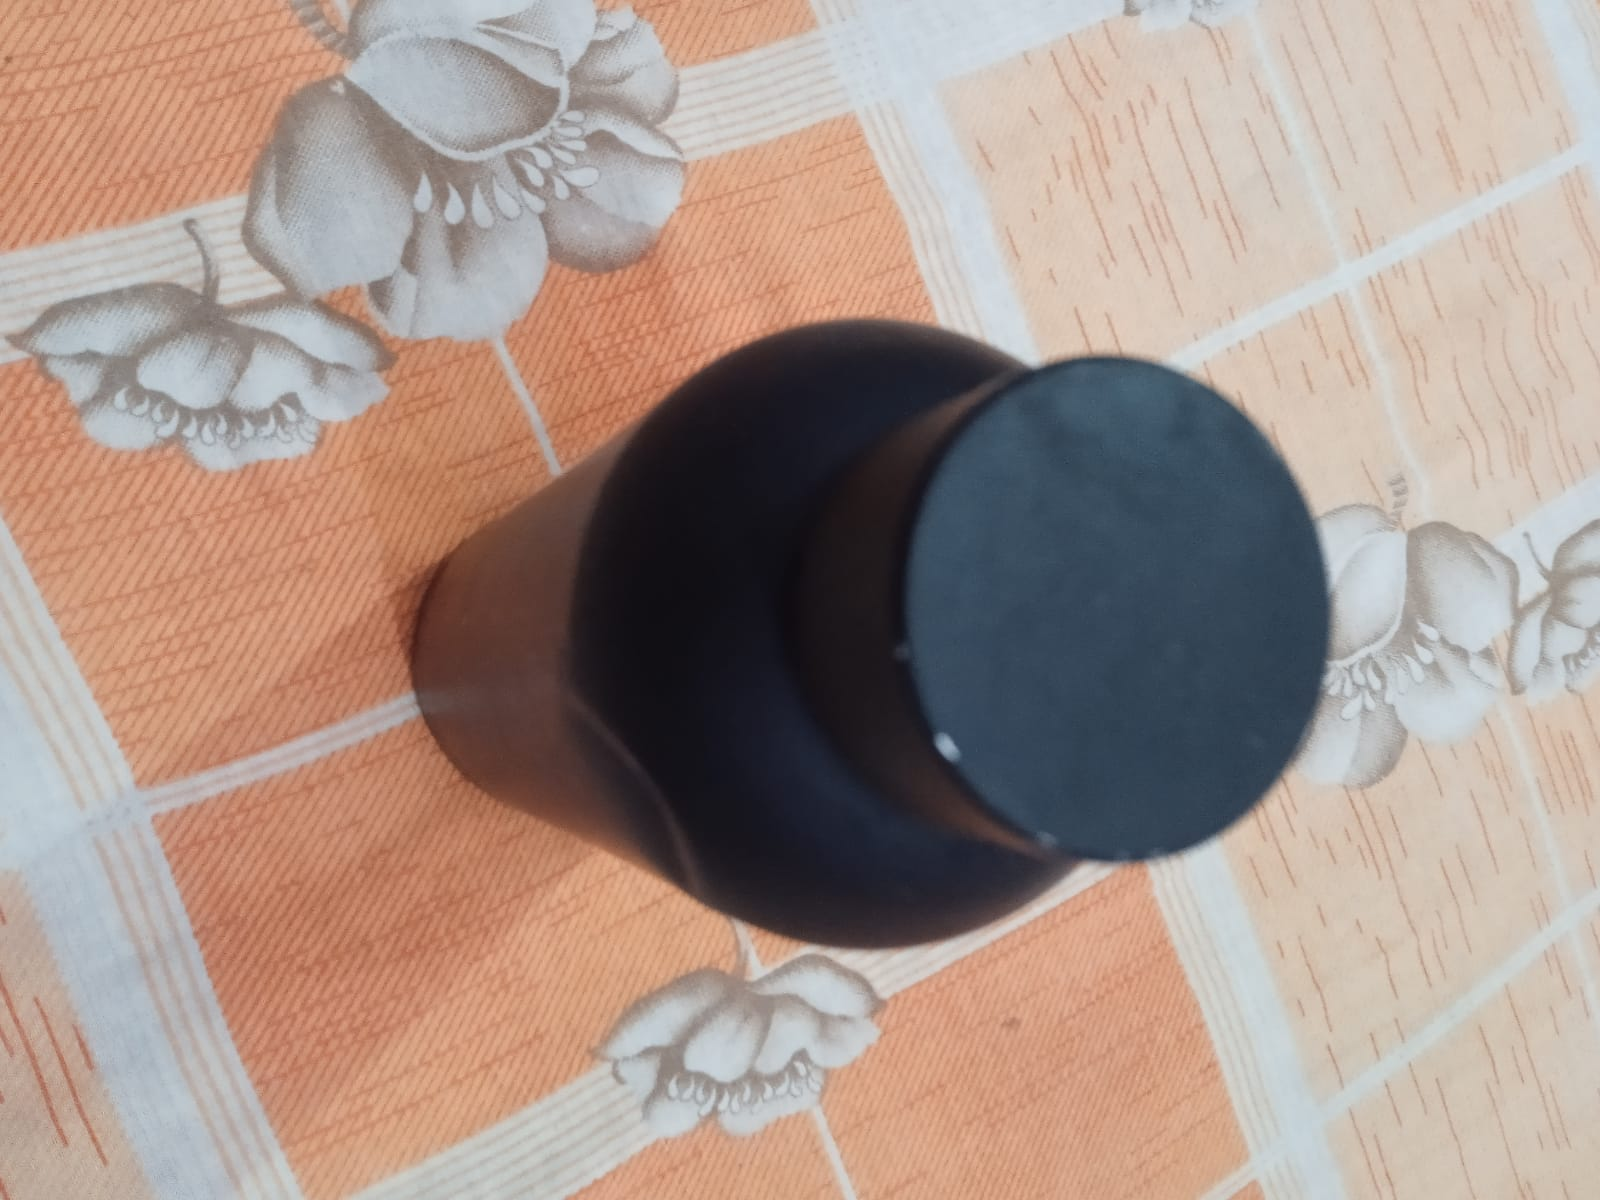bottle: (333, 285, 1359, 966)
